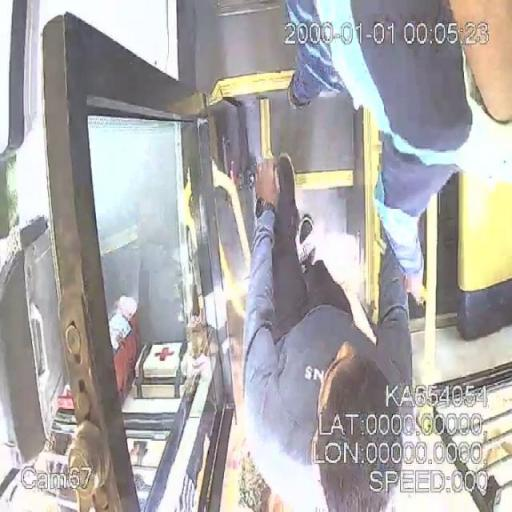persona: (284, 0, 510, 306), (240, 152, 416, 510)
